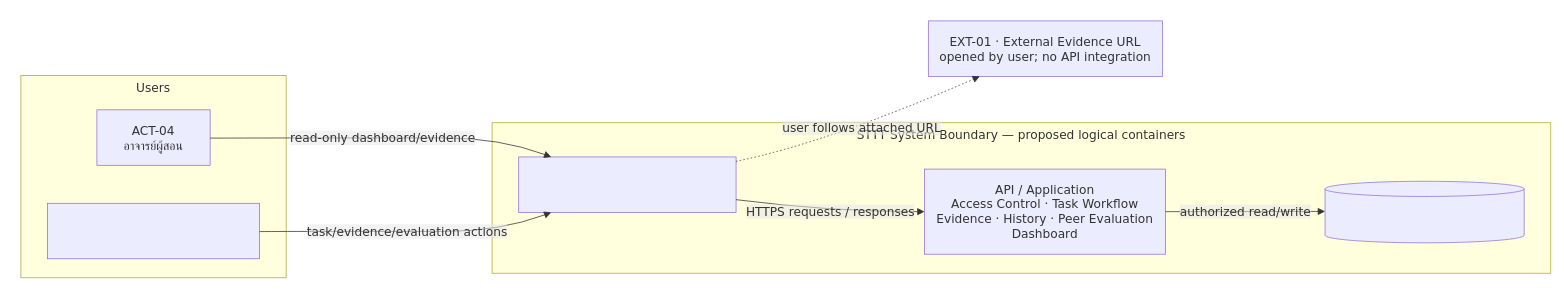
Some shapes in this 1564 by 291 pixel diagram are drawn without their labels. Here are the shapes that lost their labels. From the top down, the centre of each, then its label:
At [627,184]: "Web Application Browser UI · role-specific views".
At [153,231]: "ACT-01/02/03 หัวหน้ากลุ่ม · สมาชิก · Reviewer".
At [1424,211]: "Database / Persistent Store logical data store; technology TBD".
